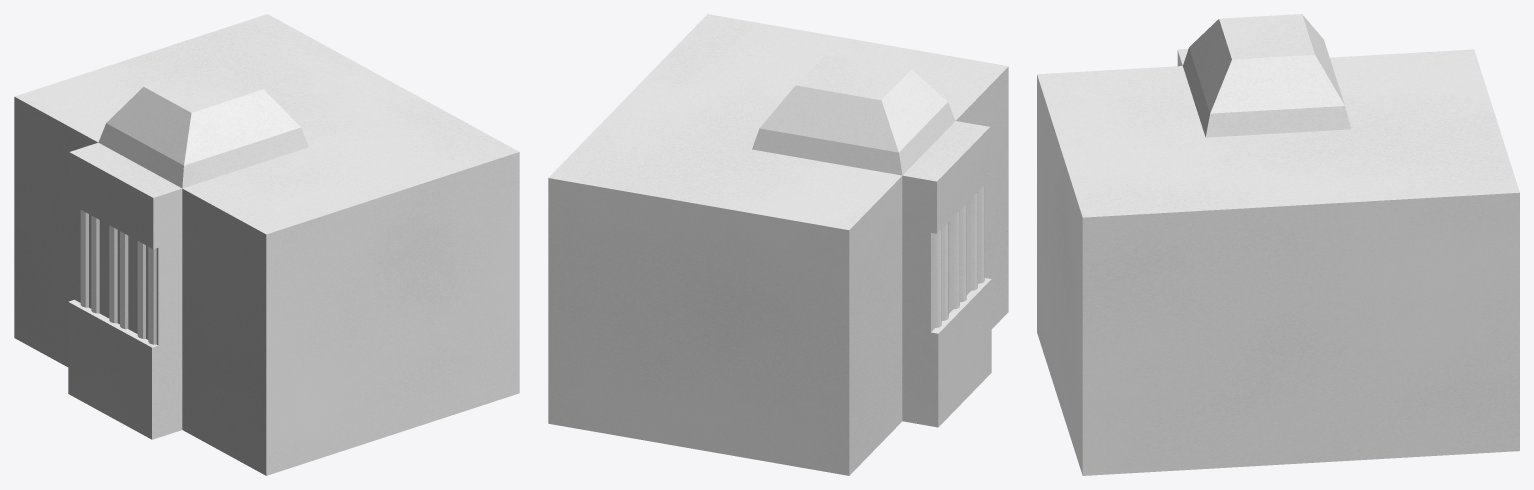
The model's file is CCK.gltf.
3 renders of one model, left to right at view 1: azimuth 30°, elevation 25°; view 2: azimuth 150°, elevation 25°; view 3: azimuth 270°, elevation 25°, orthographic. The views are drawn at different scales.
Parts seen in each view (by area): view 1: CCK; view 2: CCK; view 3: CCK.
Boxes of the visible parts, <box> form: CCK: <box>14,14,519,475</box>; CCK: <box>548,14,1008,475</box>; CCK: <box>1037,14,1519,475</box>.
Bounding box in the file's own units: 1.05 × 0.8807 × 1.21.
1 material, 1 textured.
